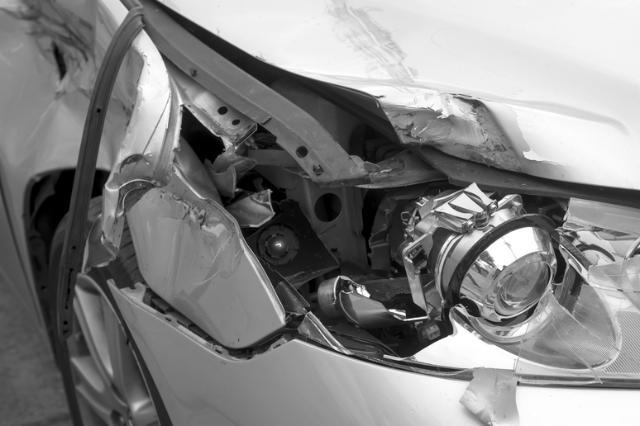Light: (132, 32, 640, 426)
